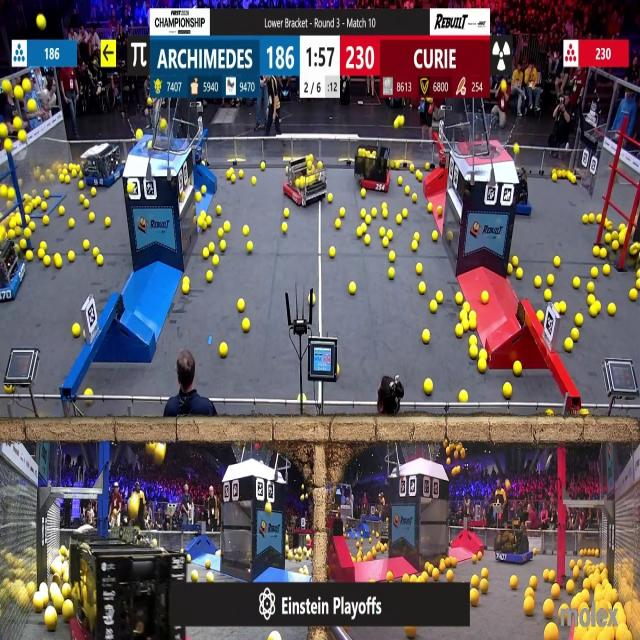ball_airborne: (130, 494, 141, 516), (156, 445, 167, 464), (37, 16, 46, 31), (2, 78, 10, 92), (12, 88, 22, 99), (24, 78, 32, 91), (12, 116, 20, 128), (4, 139, 12, 151), (1, 125, 8, 138), (29, 100, 36, 113), (8, 186, 15, 198), (500, 80, 507, 92), (394, 116, 401, 128), (0, 184, 6, 196), (17, 132, 24, 142), (267, 502, 273, 513), (162, 119, 168, 129), (136, 130, 142, 140), (514, 144, 520, 154), (454, 466, 460, 474), (147, 98, 152, 106), (447, 458, 453, 464), (148, 142, 152, 150)
ball_ground: (44, 611, 56, 631), (62, 601, 74, 619), (542, 600, 552, 618), (524, 598, 534, 616), (544, 625, 556, 640), (406, 626, 417, 640), (424, 379, 433, 395), (514, 360, 523, 376), (469, 590, 478, 606), (552, 586, 561, 600), (35, 598, 44, 612), (503, 383, 511, 398), (543, 570, 553, 582), (72, 323, 80, 337), (219, 344, 227, 358), (566, 582, 574, 596), (422, 331, 430, 344), (478, 359, 486, 372), (511, 575, 519, 588), (481, 581, 489, 594), (243, 318, 250, 332), (482, 290, 490, 302), (607, 305, 615, 317), (543, 288, 551, 300), (564, 340, 572, 352), (574, 314, 582, 326), (459, 390, 467, 402), (571, 328, 579, 340), (630, 289, 638, 301), (470, 575, 478, 587), (590, 306, 598, 318), (56, 255, 63, 268), (418, 572, 428, 581), (602, 266, 610, 277), (588, 282, 596, 293), (68, 251, 76, 262), (388, 251, 396, 262), (534, 276, 541, 288), (419, 282, 426, 294), (546, 275, 553, 287), (456, 324, 463, 336), (530, 575, 537, 587), (238, 300, 245, 312), (436, 290, 442, 304), (349, 282, 356, 294), (525, 588, 534, 597), (386, 570, 394, 580), (588, 294, 596, 304), (449, 557, 457, 567), (82, 240, 89, 251), (243, 224, 250, 235), (517, 269, 524, 280), (203, 248, 210, 259), (429, 302, 436, 313), (388, 269, 395, 280), (469, 347, 476, 358), (363, 235, 370, 246), (560, 302, 566, 314), (592, 268, 598, 280), (479, 350, 487, 359), (468, 337, 476, 346), (432, 568, 438, 580), (482, 568, 489, 578), (43, 256, 50, 266), (207, 572, 214, 582), (468, 319, 475, 329), (38, 249, 45, 259), (68, 218, 75, 228), (459, 311, 466, 321), (447, 570, 454, 580), (456, 292, 462, 303), (207, 272, 213, 283), (413, 241, 419, 252), (247, 242, 253, 253), (128, 182, 134, 193), (19, 239, 25, 250), (191, 570, 197, 581), (462, 319, 468, 330), (611, 241, 617, 252), (93, 247, 100, 256), (364, 215, 371, 224), (193, 216, 200, 225), (555, 256, 561, 266), (328, 247, 334, 257), (105, 216, 111, 226), (42, 215, 48, 225), (573, 278, 579, 288), (98, 255, 104, 265), (537, 312, 543, 322), (60, 206, 66, 216), (182, 284, 188, 294), (218, 229, 224, 239), (28, 250, 34, 260), (223, 221, 229, 231), (513, 256, 519, 266), (382, 238, 388, 248), (212, 254, 218, 264), (356, 229, 362, 239), (26, 230, 32, 240), (209, 243, 215, 253), (600, 248, 606, 258), (572, 568, 578, 578), (604, 234, 610, 244), (402, 573, 409, 581), (5, 385, 12, 393), (87, 388, 94, 396), (412, 574, 419, 582), (220, 241, 225, 252), (417, 265, 422, 276), (431, 233, 437, 242), (370, 209, 376, 218), (216, 206, 222, 215), (396, 214, 402, 223), (336, 219, 342, 228), (92, 187, 98, 196), (403, 185, 409, 194), (225, 170, 231, 179), (582, 215, 588, 224), (30, 221, 36, 230), (435, 207, 441, 216), (448, 233, 454, 242), (26, 206, 32, 215), (282, 222, 287, 232), (327, 192, 332, 202), (387, 231, 392, 241), (402, 209, 407, 219), (507, 266, 512, 276), (381, 228, 386, 238), (545, 411, 552, 418), (478, 553, 485, 560), (462, 304, 468, 312), (83, 200, 89, 208), (182, 278, 188, 286), (414, 234, 420, 242), (596, 214, 602, 222), (194, 192, 200, 200), (41, 203, 47, 211), (206, 561, 212, 569), (397, 177, 403, 185), (360, 224, 366, 232), (202, 222, 208, 230), (467, 312, 473, 320), (284, 209, 289, 218), (91, 213, 96, 222), (341, 208, 346, 217), (413, 192, 418, 201), (594, 247, 599, 256), (428, 204, 433, 213), (360, 188, 365, 197), (360, 209, 365, 218), (383, 210, 388, 219), (207, 216, 212, 225), (570, 175, 575, 184), (202, 185, 207, 194), (44, 189, 49, 198), (186, 555, 191, 564), (262, 161, 267, 170), (418, 172, 423, 181), (26, 215, 31, 224), (72, 171, 78, 178), (78, 181, 83, 189), (240, 170, 244, 180), (471, 555, 476, 563), (232, 175, 237, 183), (425, 164, 430, 172), (61, 175, 66, 183), (78, 172, 83, 180), (395, 162, 400, 170), (79, 193, 83, 202), (66, 175, 70, 184), (40, 242, 45, 249), (553, 175, 558, 182), (383, 203, 388, 210), (252, 177, 256, 185), (636, 280, 640, 288), (569, 560, 573, 568), (369, 576, 374, 582), (216, 551, 221, 557), (411, 166, 415, 173), (535, 550, 539, 557), (636, 272, 640, 279), (305, 568, 309, 575), (296, 394, 300, 401), (298, 568, 302, 574)
goal: (460, 116, 519, 158), (126, 118, 185, 153)
robot_blue: (82, 141, 125, 189), (0, 234, 26, 303), (497, 527, 532, 564), (513, 168, 532, 218)
robot_red: (77, 551, 198, 640), (282, 156, 327, 206), (354, 142, 389, 192)
